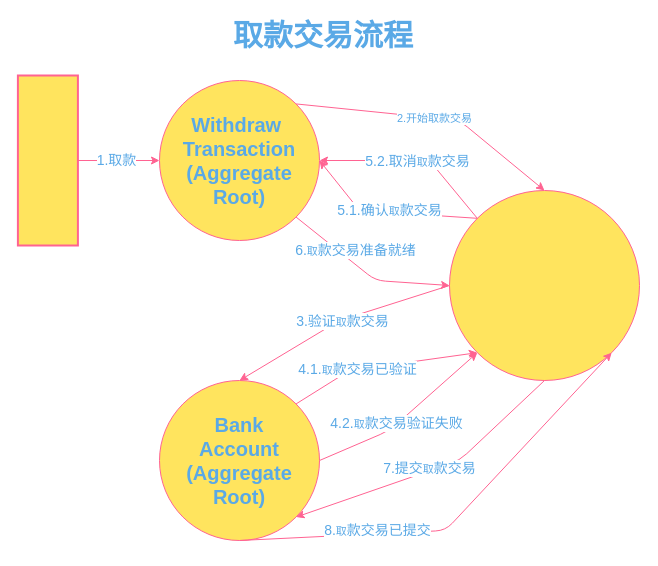
Some shapes in this 658 by 566 pixel diagram are drawn without their labels. The shapes that lost their labels are listed below. From the top down, each one's centre as x and y in pixels, then its label:
At (47,160): "应 用 层".
At (544,285): "Withdraw Processor Manager (Saga)".
